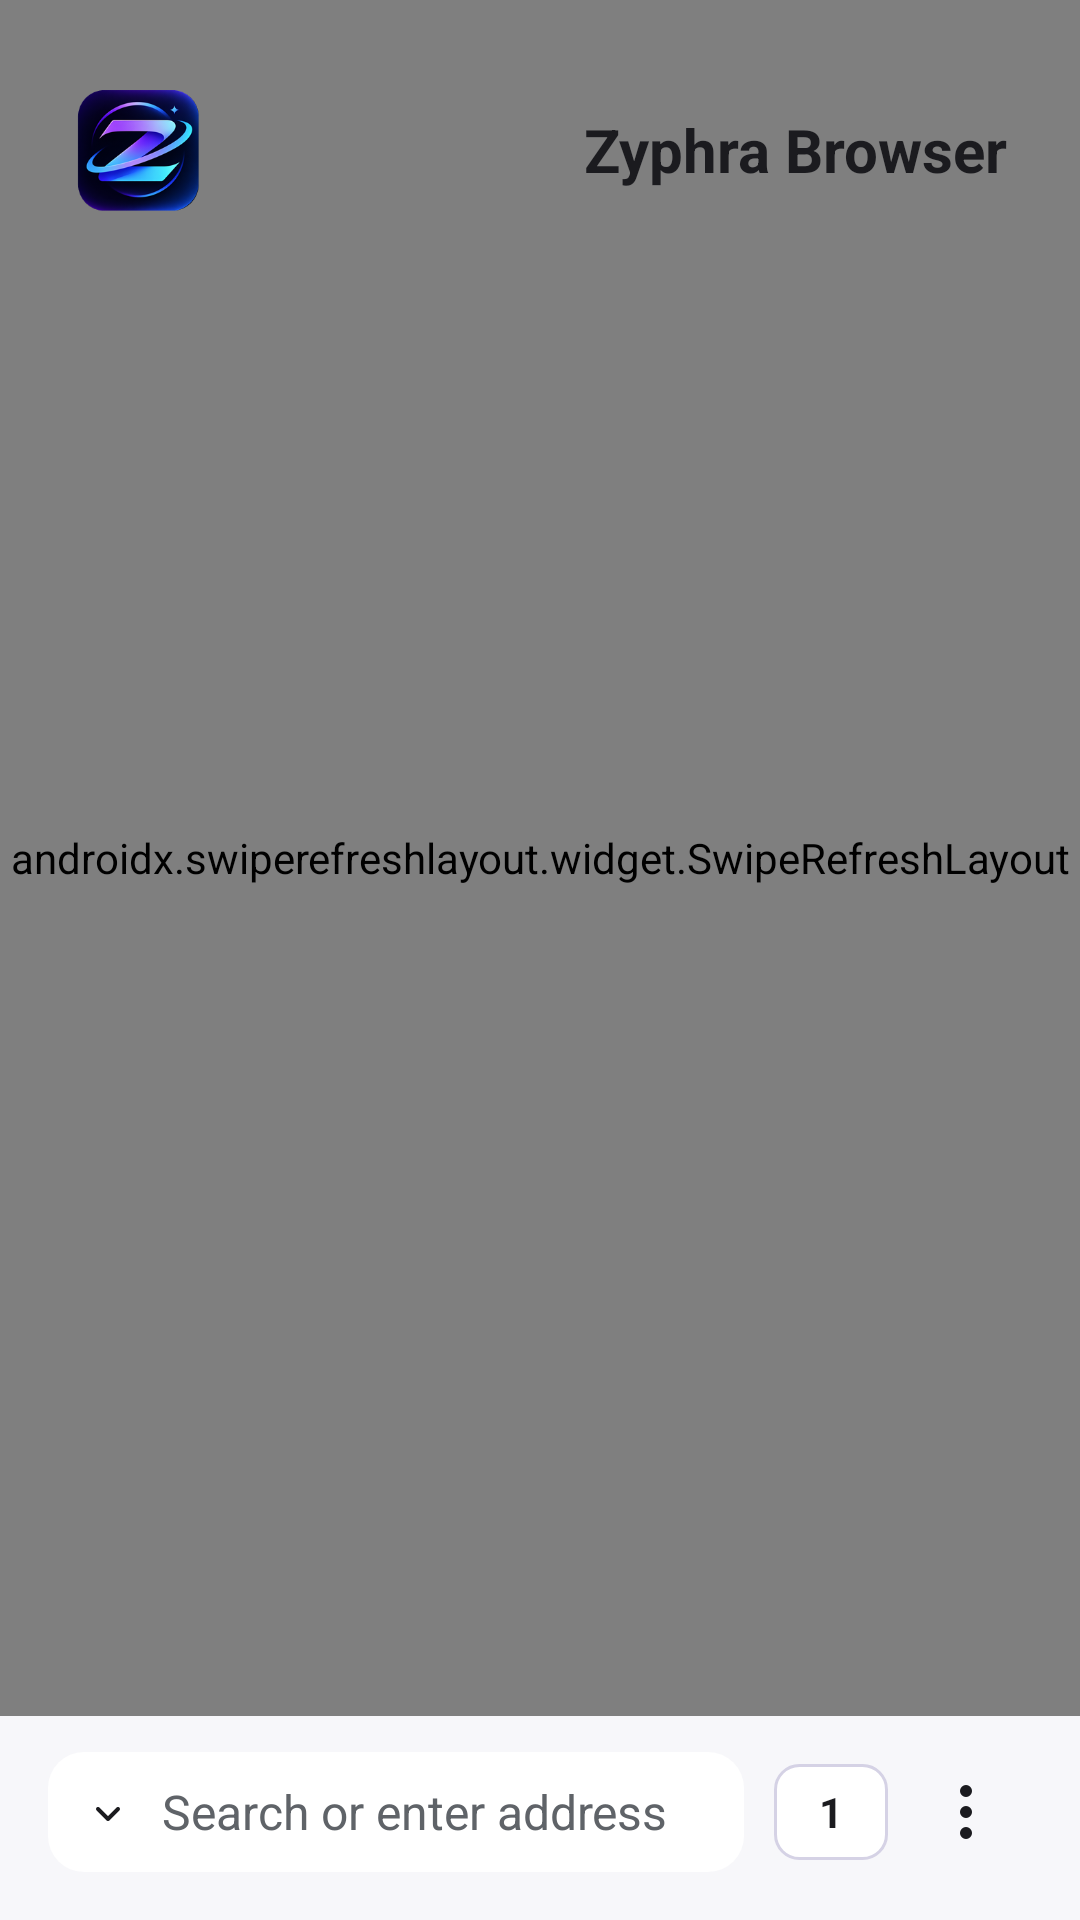

Icons on this 1080 x 1920 Android screen, each with the point to tap as (x=x, y=y):
chevron: (x=108, y=1814)
Menu: (x=966, y=1812)
